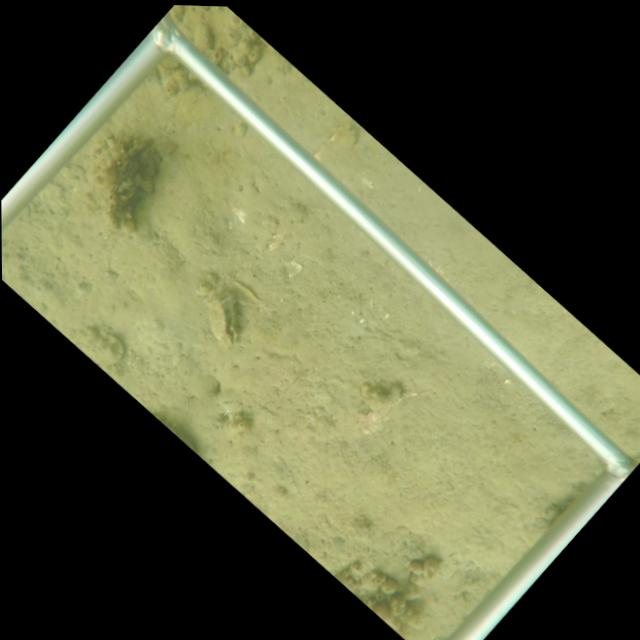Oyster-Closed: (102, 179, 120, 234)
Oyster-Indeterminate: (81, 332, 126, 372)
Oyster-Open: (206, 289, 241, 351)
